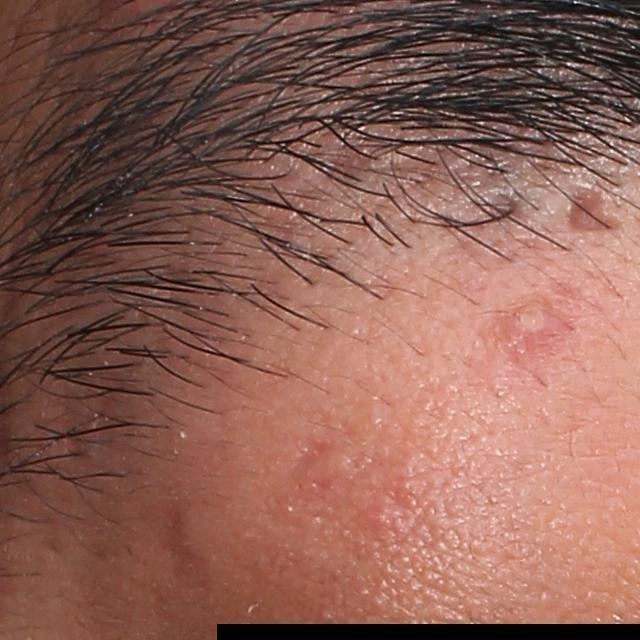atrophic_scar: (137, 492, 233, 602), (564, 185, 627, 239)
pustule: (510, 298, 558, 343)
